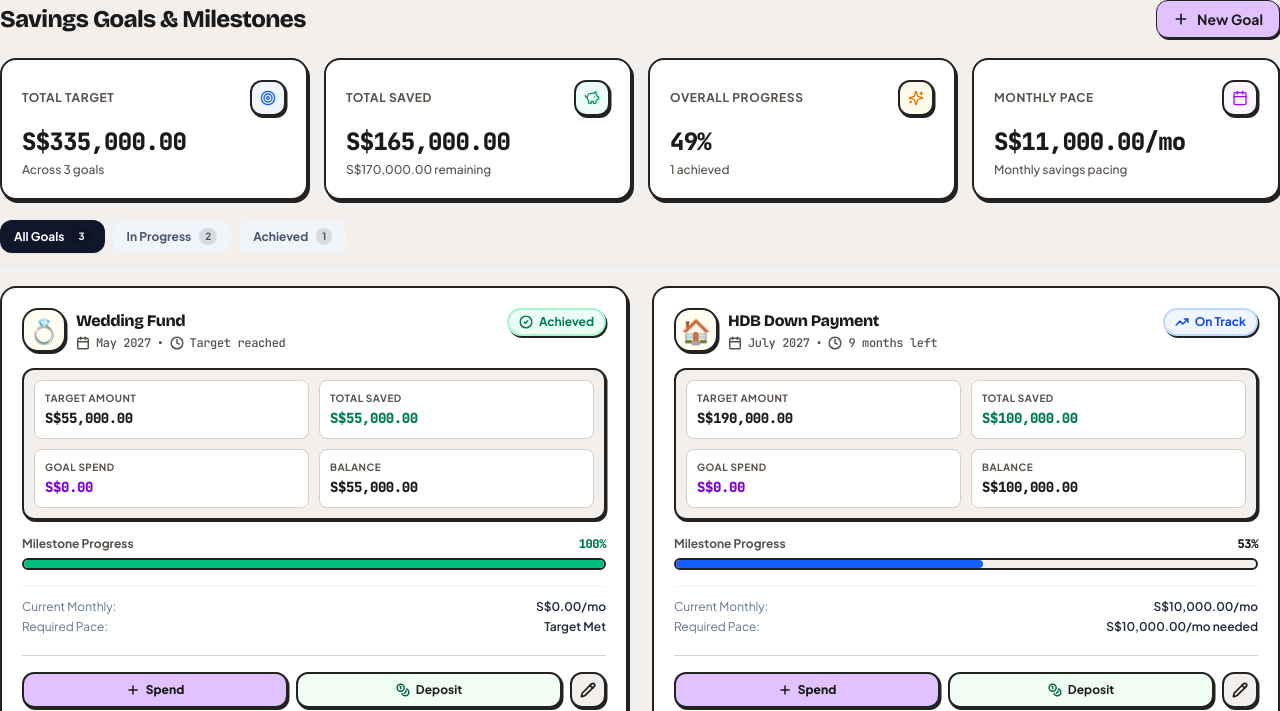
Test: GoalsPage Integration › filters goals using All Goals, In Progress, and Achieved tabs
The image size is (1280, 711).
expect the text "Wedding Fund" is shown: met, box x1=76 y1=309 x2=185 y2=333
expect the text "HDB Down Payment" is shown: met, box x1=728 y1=309 x2=879 y2=333
// Click "In Progress" tab
Click the tab "In Progress 2". click: (172, 237)
box: x1=112 y1=220 x2=231 y2=253
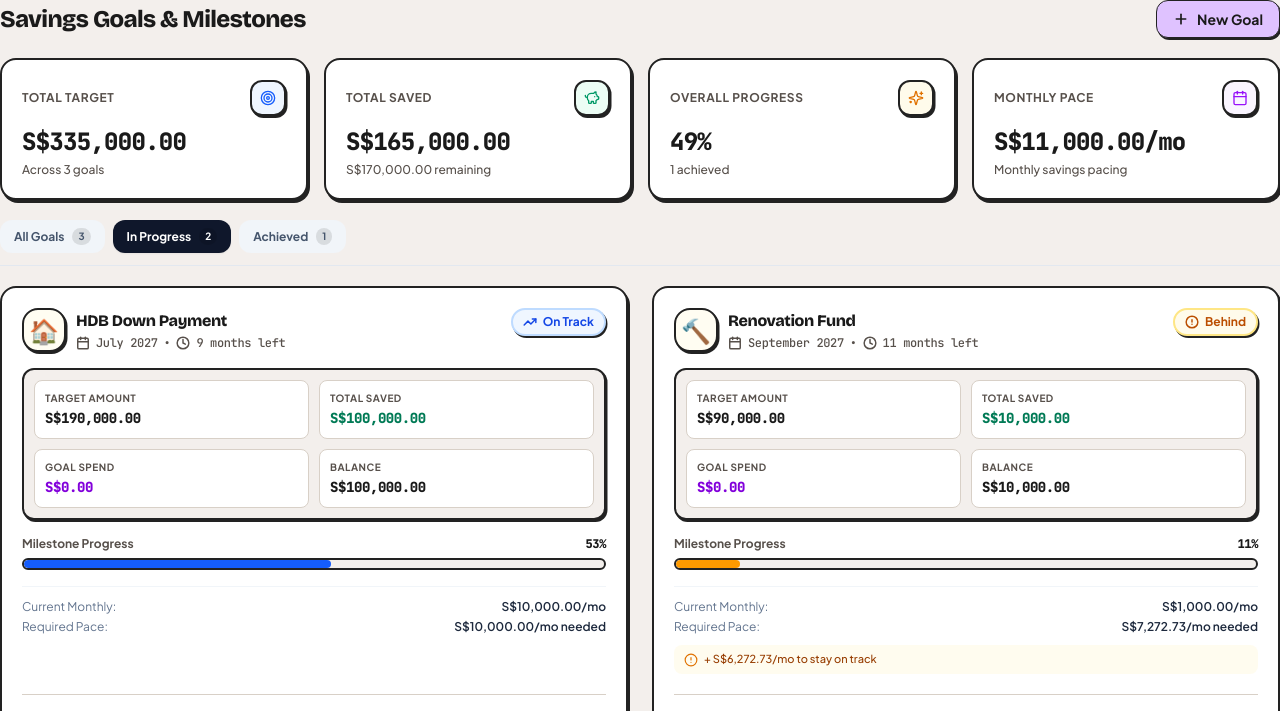
expect the text "HDB Down Payment" is shown: met, box x1=76 y1=309 x2=227 y2=333
expect the text "Wedding Fund" is gone: met
// Click "Achieved" tab
Click the tab "Achieved 1". click: (293, 237)
box: x1=239 y1=220 x2=346 y2=253
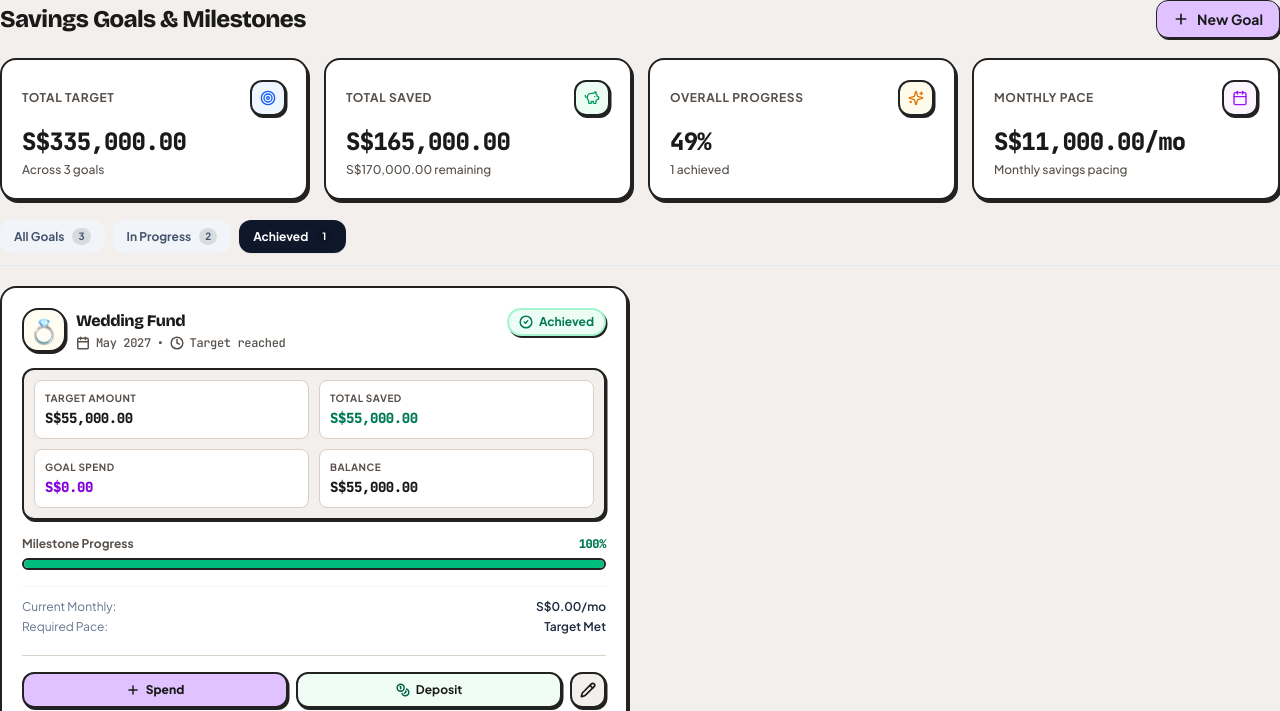
expect the text "Wedding Fund" is shown: met, box x1=76 y1=309 x2=185 y2=333
expect the text "HDB Down Payment" is gone: met
expect the text "Renovation Fund" is gone: met
